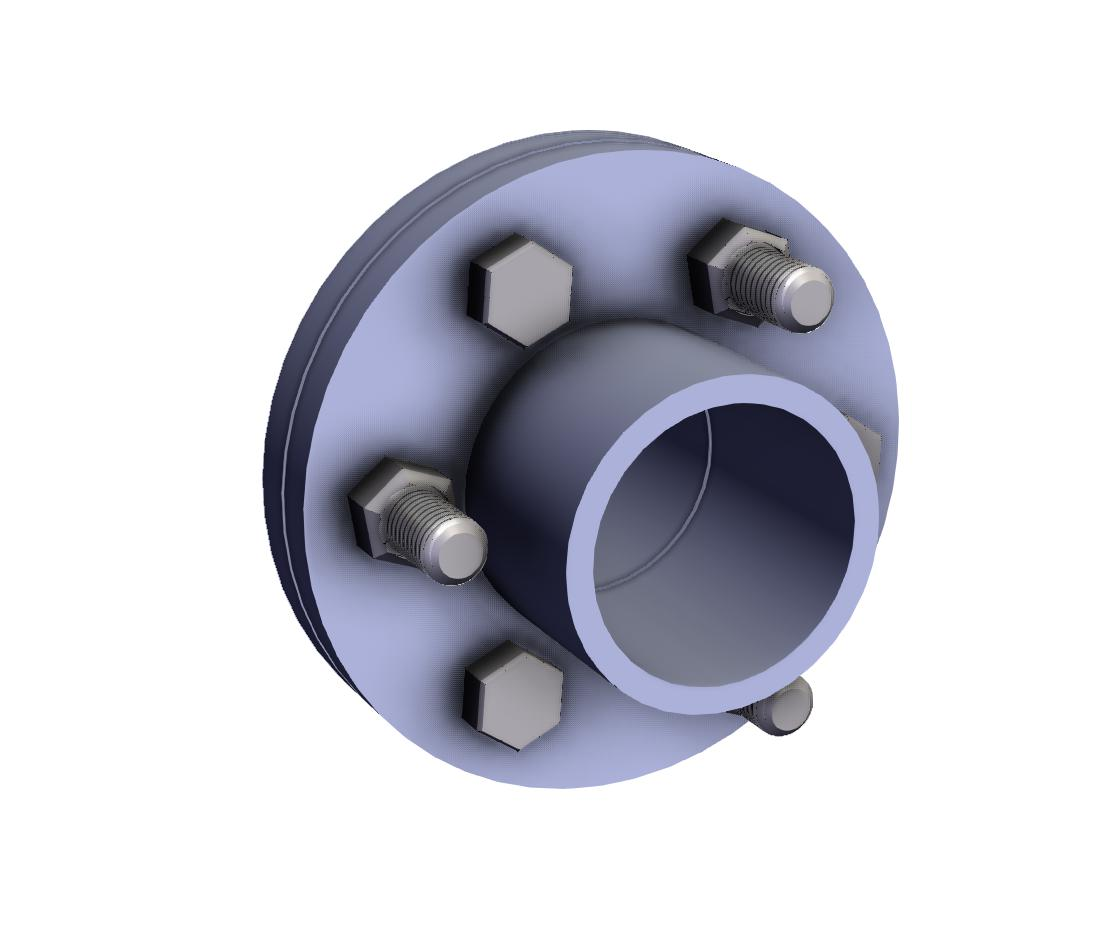bolt_a: (464, 232, 577, 350), (457, 640, 566, 752)
bolt_b: (347, 457, 465, 570), (687, 217, 796, 330)
